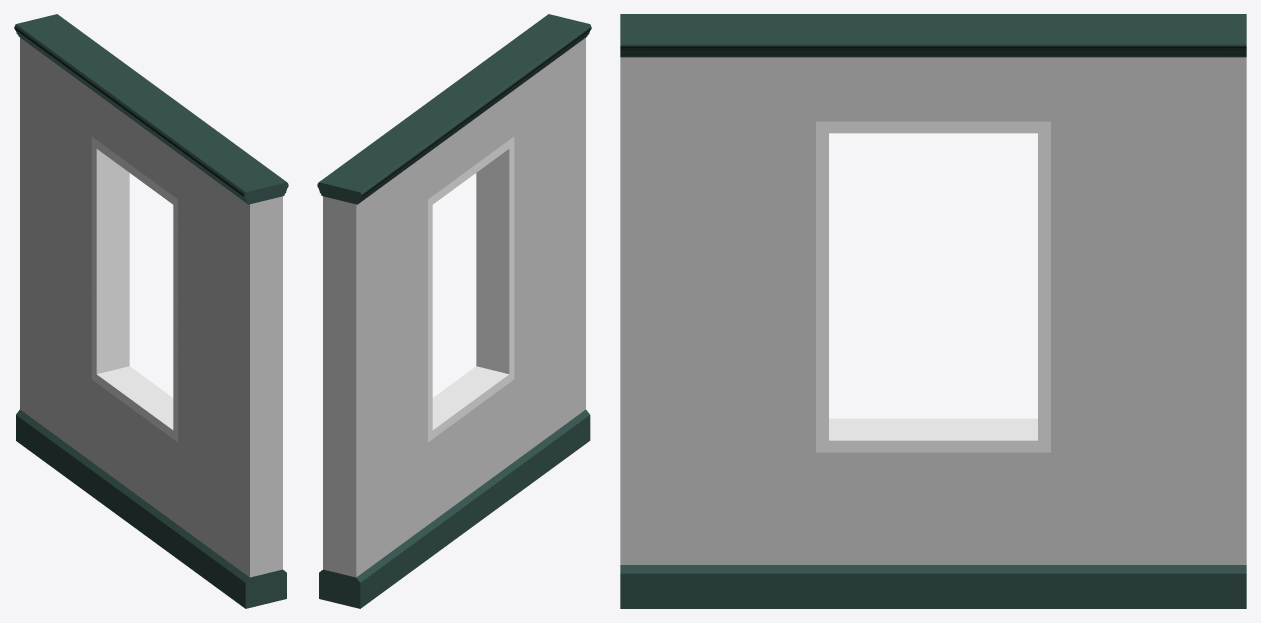
The model's file is Neo_WallWindowFrame_01_Snaps001.fbx.
3 renders of one model, left to right at view 1: azimuth 30°, elevation 25°; view 2: azimuth 150°, elevation 25°; view 3: azimuth 270°, elevation 25°, orthographic. The views are drawn at different scales.
Parts seen in each view (by area): view 1: Neo_WallWindowFrame_01_LOD00; view 2: Neo_WallWindowFrame_01_LOD00; view 3: Neo_WallWindowFrame_01_LOD00.
Boxes of the visible parts, bbox=[...] form: Neo_WallWindowFrame_01_LOD00: bbox=[14, 14, 288, 608]; Neo_WallWindowFrame_01_LOD00: bbox=[317, 14, 591, 608]; Neo_WallWindowFrame_01_LOD00: bbox=[620, 14, 1246, 608].
Size of what is drawn, in the model's own units: 33.6 by 300 by 300.
